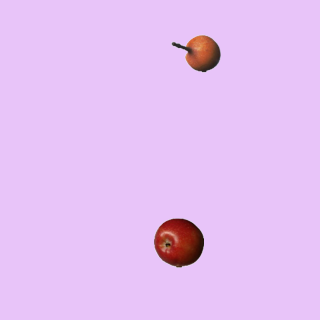Apple Braeburn: (153, 217, 203, 267)
Granadilla: (170, 28, 220, 78)
